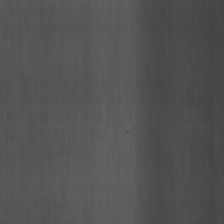inclusion: (124, 125, 132, 138)
